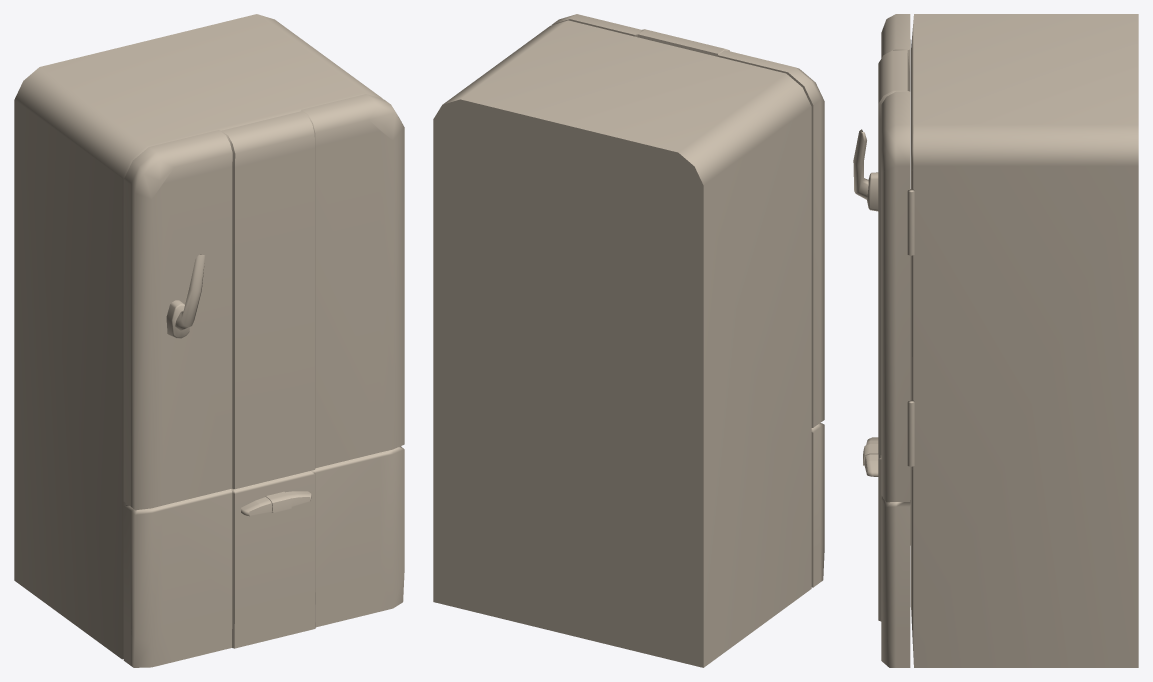
The model's file is Kyl - Copy.fbx.
3 renders of one model, left to right at view 1: azimuth 30°, elevation 25°; view 2: azimuth 150°, elevation 25°; view 3: azimuth 270°, elevation 25°, orthographic. The views are drawn at different scales.
Parts seen in each view (by area): view 1: Door, Kyl; view 2: Kyl, Door; view 3: Kyl, Door.
Part boxes in pixels (x1,y1,x2,y2): Door: (123, 94, 404, 667); Kyl: (14, 14, 382, 659); Kyl: (433, 20, 811, 667); Door: (552, 14, 824, 587); Kyl: (907, 14, 1138, 667); Door: (853, 14, 910, 667).
Bounding box in the file's own units: 102 × 180 × 87.83.
